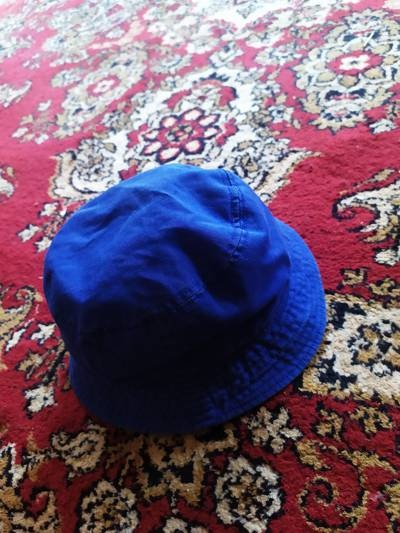Hat: (51, 114, 326, 435)
